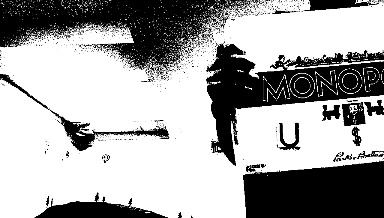U: (275, 121, 299, 146)
